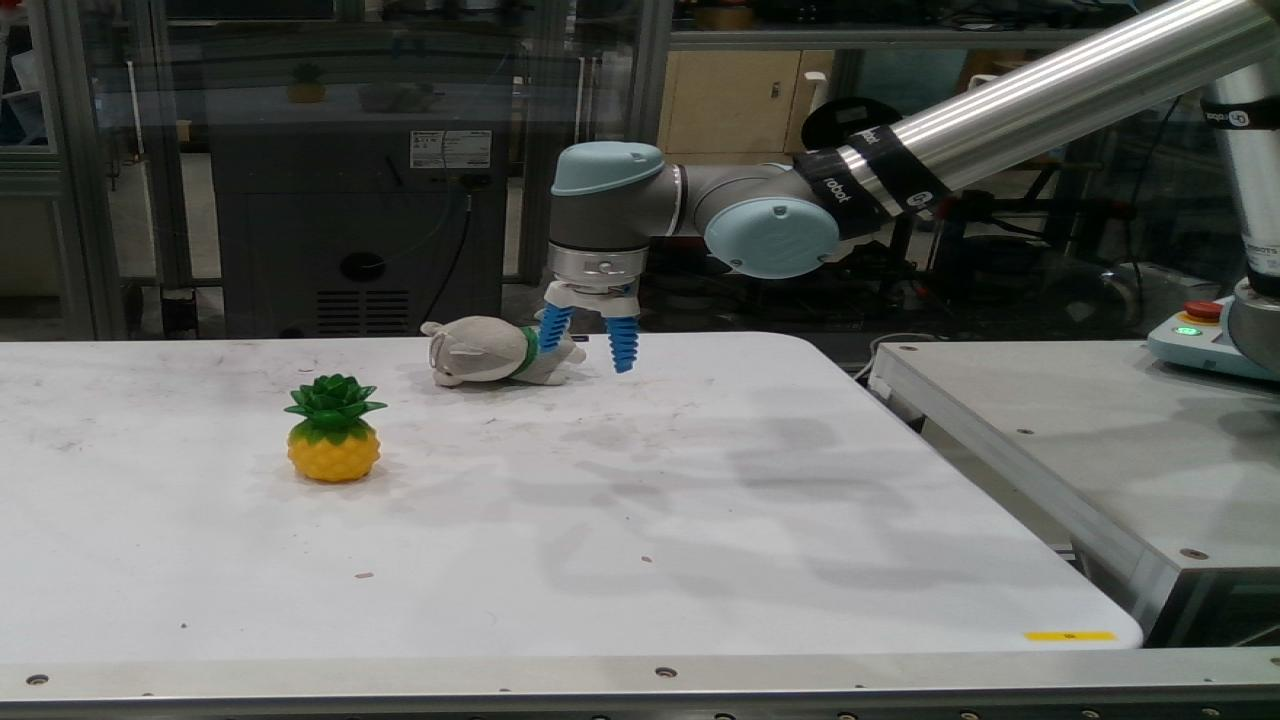UR5: (547, 0, 1279, 374)
gripper_left: (538, 303, 573, 353)
gripper_right: (605, 317, 637, 372)
target: (422, 316, 585, 386), (285, 374, 385, 482)
